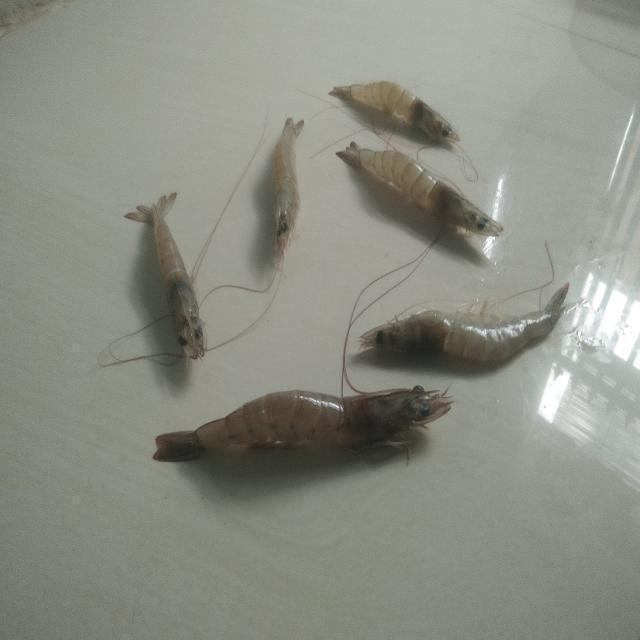shrimp: (152, 386, 452, 462), (360, 283, 570, 362), (339, 141, 503, 235), (125, 192, 206, 359), (330, 80, 460, 141), (274, 117, 304, 256)
